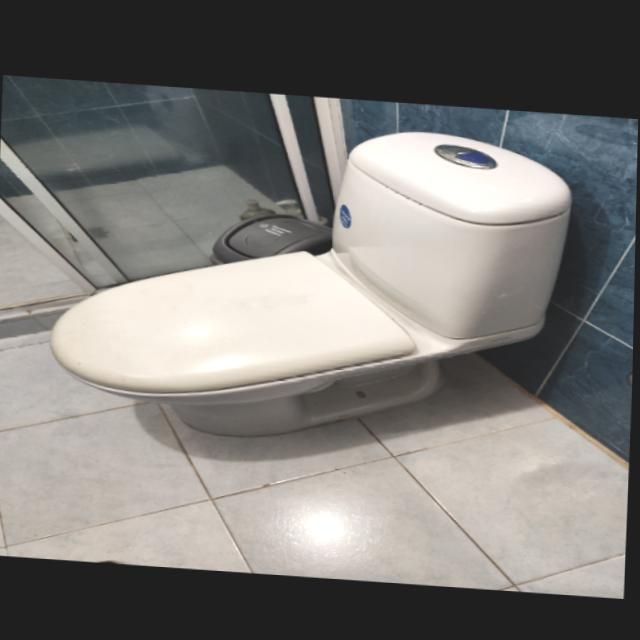toilet: (47, 104, 575, 452)
